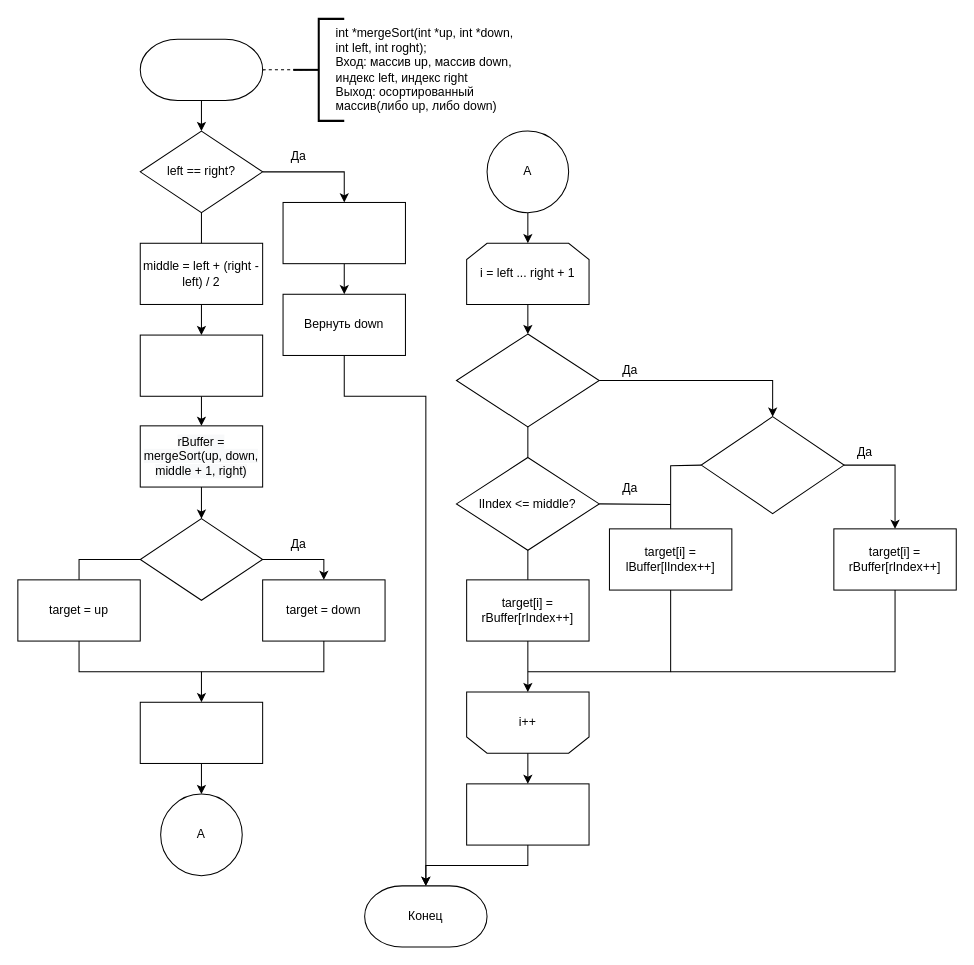
The diagram is 974 pixels wide and 965 high, and some of its shapes have lost their labels. The centre of each missing label's shape, as x and y in pixels:
"down[left] = up[left]" belongs at pixel 343 232.
"lBuffer = mergeSort(up, down, left, middle)" belongs at pixel 201 365.
"lBuffer == up?" belongs at pixel 201 559.
"lBuffer[lIndex] < rBuffer[rIndex]?" belongs at pixel 772 465.
"lIndex <= middle и rIndex <= right?" belongs at pixel 527 380.
"lIndex = left rIndex = middle + 1" belongs at pixel 201 732.
"Вернуть target" belongs at pixel 527 814.
"Начало" belongs at pixel 201 69.
